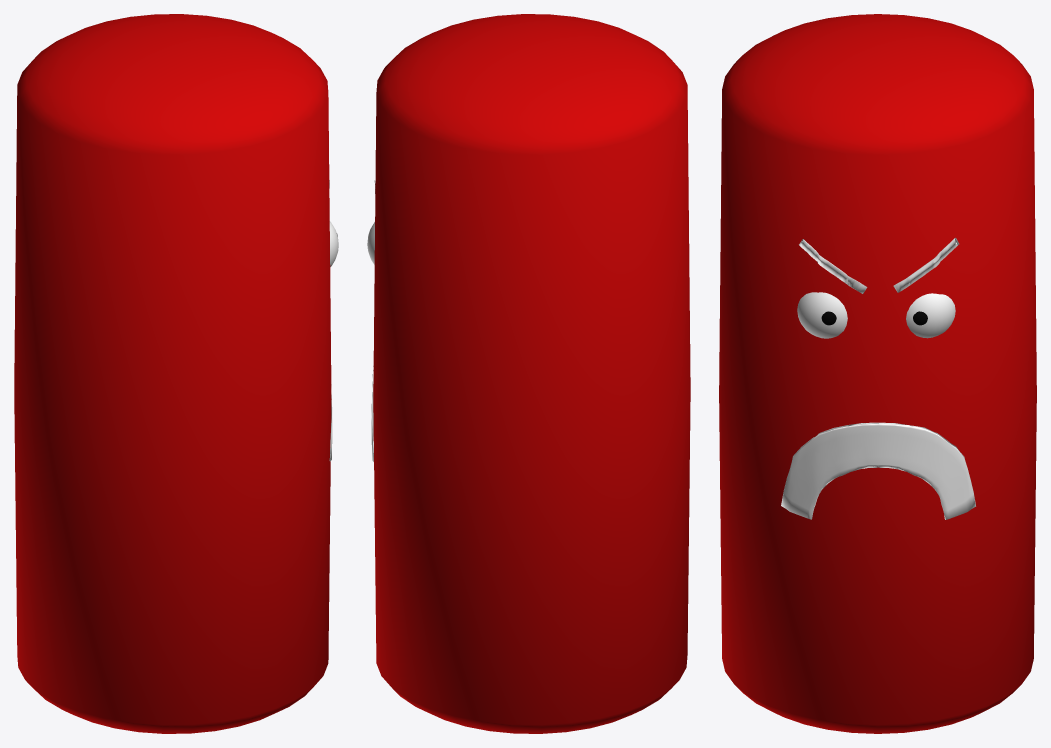
The model's file is PunchingBagFrowning.fbx.
3 renders of one model, left to right at view 1: azimuth 30°, elevation 25°; view 2: azimuth 150°, elevation 25°; view 3: azimuth 270°, elevation 25°, orthographic.
Parts seen in each view (by area): view 1: Sphere; view 2: Sphere; view 3: Sphere, Torus, Left Eye, Left Eye.001, Cube, Cube.001.
Part boxes in pixels (bbox=[...]): Sphere: bbox=[14, 14, 331, 733]; Sphere: bbox=[373, 14, 690, 733]; Sphere: bbox=[719, 14, 1036, 733]; Torus: bbox=[781, 422, 975, 519]; Left Eye: bbox=[797, 292, 847, 338]; Left Eye.001: bbox=[906, 293, 955, 338]; Cube: bbox=[799, 239, 867, 293]; Cube.001: bbox=[893, 237, 959, 292].
Size of the model in its own units: 184 by 415 by 182.
